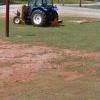Tractor: (14, 3, 69, 31)
